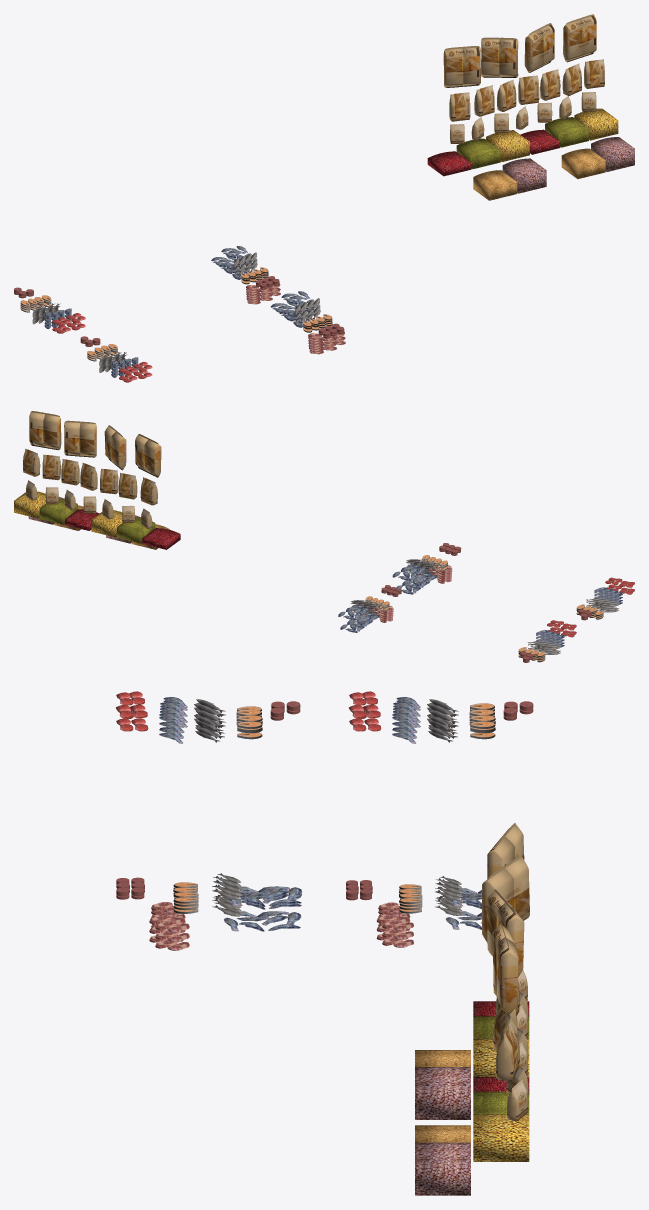
The model's file is thuysan_L4.glb.
3 views of the same model, one above another, from view 1: azimuth 30°, elevation 25°; view 2: azimuth 150°, elevation 25°; view 3: azimuth 270°, elevation 25° (orthographic). The views are drawn at different scales.
Parts seen in each view (by area): view 1: _l4_Fish ice.002, _l4_Beans booth_Details.002, _l4_Beans booth_Details.001, _l4_Fish ice, _l4_Beans booth_Details.004, _l4_Beans booth_Details, _l4_Fish ice.001, _l4_Fish ice.003, _l4_Bread shelf_Details.009, _l4_Bread shelf_Details.017, _l4_Beans booth_Details.003, _l4_Bread shelf_Details.007 (+8 smaller); view 2: _l4_Fish ice.002, _l4_Fish ice, _l4_Fish ice.003, _l4_Fish ice.001, _l4_Beans booth_Details.004, _l4_Beans booth_Details, _l4_Bread shelf_Details.008, _l4_Bread shelf_Details.007, _l4_Beans booth_Details.003, _l4_Bread shelf_Details.017, _l4_Bread shelf_Details.009, _l4_Bread shelf_Details.011 (+6 smaller); view 3: _l4_Fish ice.002, _l4_Beans booth_Details.002, _l4_Fish ice.001, _l4_Fish ice.003, _l4_Fish ice, _l4_Beans booth_Details, _l4_Bread shelf_Details.009, _l4_Beans booth_Details.001, _l4_Bread shelf_Details.007, _l4_Bread shelf_Details.008, _l4_Beans booth_Details.004, _l4_Bread shelf_Details.017 (+2 smaller).
Part boxes in pixels (x1,y1,x2,y2): _l4_Fish ice.002: (270, 291, 345, 354); _l4_Beans booth_Details.002: (502, 137, 634, 193); _l4_Beans booth_Details.001: (473, 148, 605, 200); _l4_Fish ice: (211, 246, 280, 304); _l4_Beans booth_Details.004: (456, 117, 588, 169); _l4_Beans booth_Details: (486, 108, 618, 161); _l4_Fish ice.001: (14, 287, 85, 333); _l4_Fish ice.003: (80, 336, 152, 382); _l4_Bread shelf_Details.009: (481, 37, 518, 77); _l4_Bread shelf_Details.017: (443, 46, 480, 87); _l4_Beans booth_Details.003: (427, 129, 559, 176); _l4_Bread shelf_Details.007: (563, 14, 596, 62); _l4_Fish ice.002: (392, 543, 461, 594); _l4_Fish ice: (338, 585, 401, 632); _l4_Fish ice.003: (576, 577, 634, 620); _l4_Fish ice.001: (518, 620, 576, 662); _l4_Beans booth_Details.004: (39, 498, 155, 543); _l4_Beans booth_Details: (14, 491, 122, 537); _l4_Bread shelf_Details.008: (64, 420, 96, 457); _l4_Bread shelf_Details.007: (29, 411, 61, 449); _l4_Beans booth_Details.003: (65, 509, 180, 549); _l4_Bread shelf_Details.017: (135, 434, 161, 477); _l4_Bread shelf_Details.009: (104, 425, 126, 470); _l4_Bread shelf_Details.011: (42, 454, 60, 480); _l4_Fish ice.002: (116, 873, 301, 950); _l4_Beans booth_Details.002: (415, 1067, 470, 1195); _l4_Fish ice.001: (349, 691, 533, 743); _l4_Fish ice.003: (116, 691, 300, 743); _l4_Fish ice: (346, 876, 481, 947); _l4_Beans booth_Details: (473, 1038, 529, 1161); _l4_Bread shelf_Details.009: (482, 856, 529, 942); _l4_Beans booth_Details.001: (415, 1050, 470, 1142); _l4_Bread shelf_Details.007: (492, 923, 518, 1015); _l4_Bread shelf_Details.008: (486, 889, 524, 976); _l4_Beans booth_Details.004: (473, 1016, 529, 1114); _l4_Bread shelf_Details.017: (487, 823, 524, 879).
Size of the model in its own units: 12.72 by 3.55 by 4.4.
Materials: 25 (25 with a texture image).
